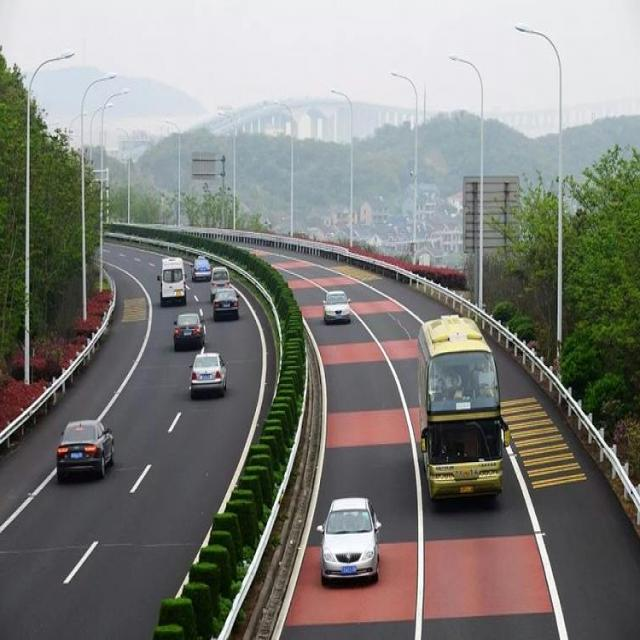point: (88, 170, 206, 312)
